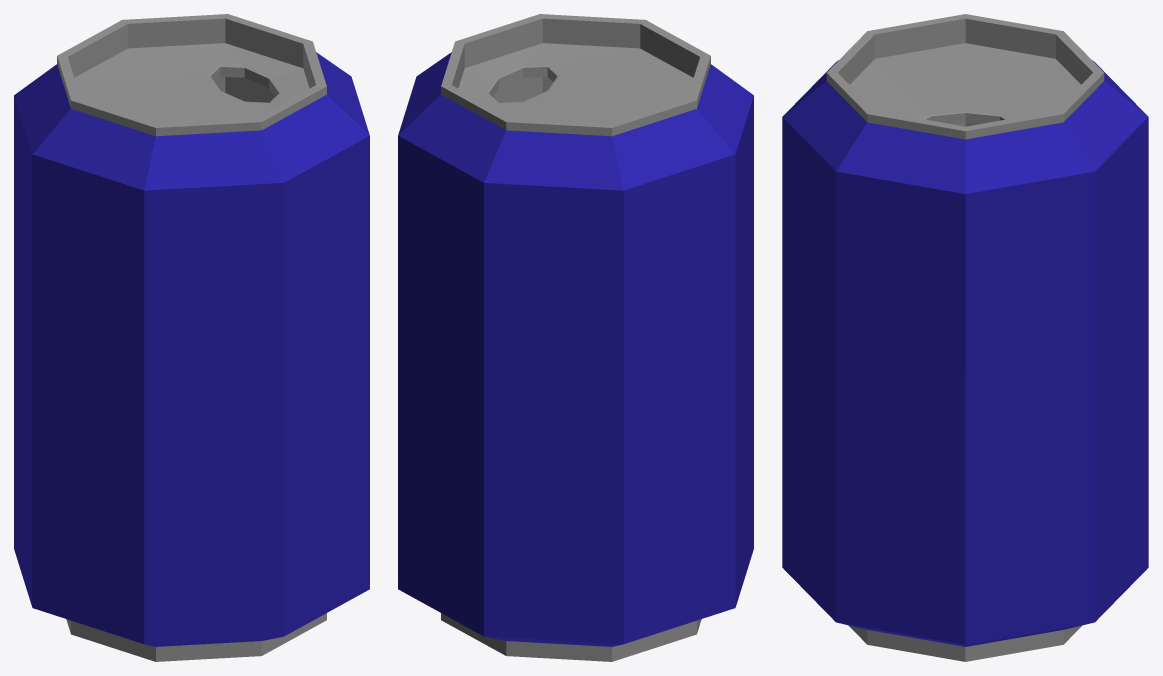
The model's file is PopCan.fbx.
3 views of the same model, side by side, from view 1: azimuth 30°, elevation 25°; view 2: azimuth 150°, elevation 25°; view 3: azimuth 270°, elevation 25° (orthographic).
Visible parts, largest first — view 1: Pop Can; view 2: Pop Can; view 3: Pop Can.
Boxes of the visible parts, <box> form: Pop Can: <box>14,14,369,661</box>; Pop Can: <box>398,14,753,661</box>; Pop Can: <box>782,14,1148,661</box>.
Size of the model in its own units: 200 by 320 by 200.
